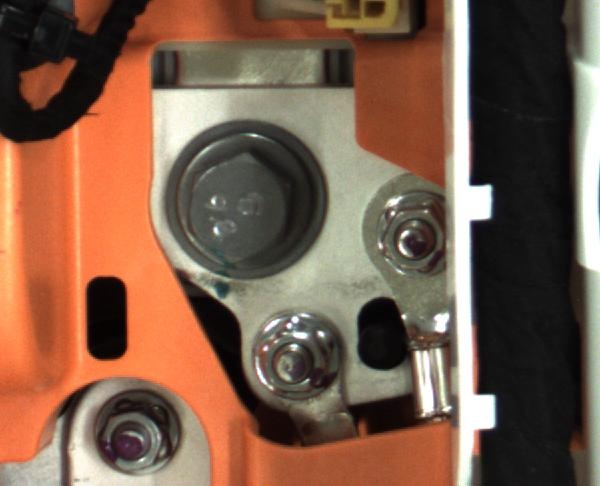nut_b: (157, 119, 328, 271)
screw_s: (248, 312, 366, 406), (88, 392, 189, 478), (371, 190, 451, 278)
